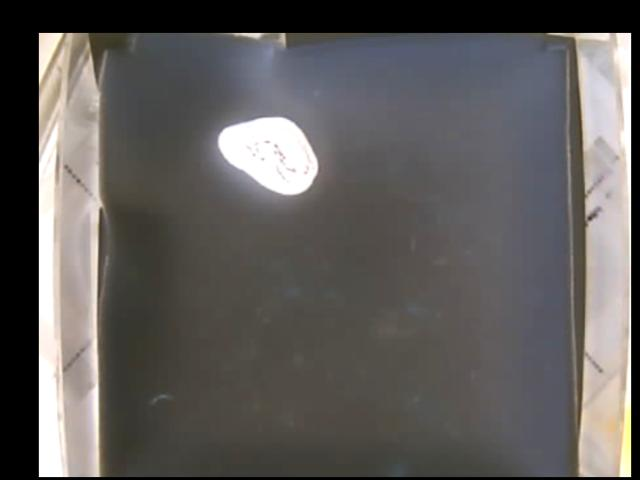Pebble: (217, 117, 319, 192)
